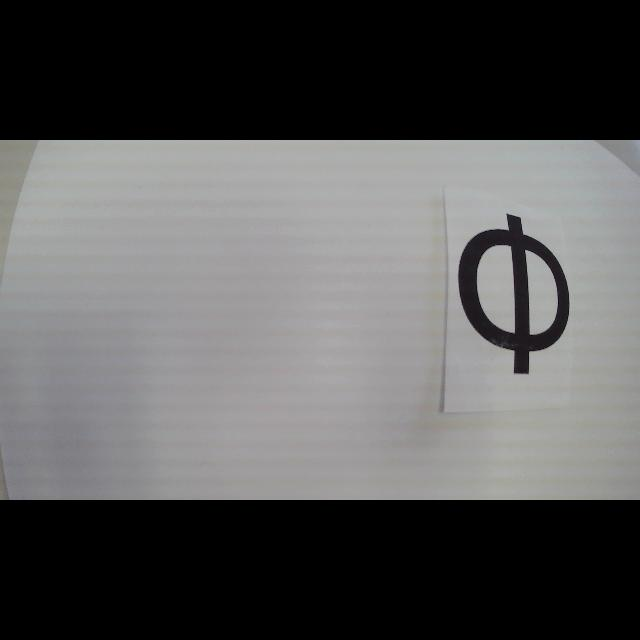PHI: (458, 213, 570, 374)
